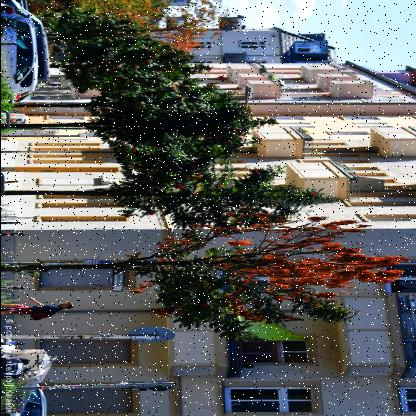Tree: (1, 216, 397, 340), (1, 146, 351, 237), (1, 86, 261, 172), (1, 74, 256, 128), (1, 40, 225, 96), (2, 1, 247, 49), (1, 14, 219, 58), (19, 0, 172, 32)
